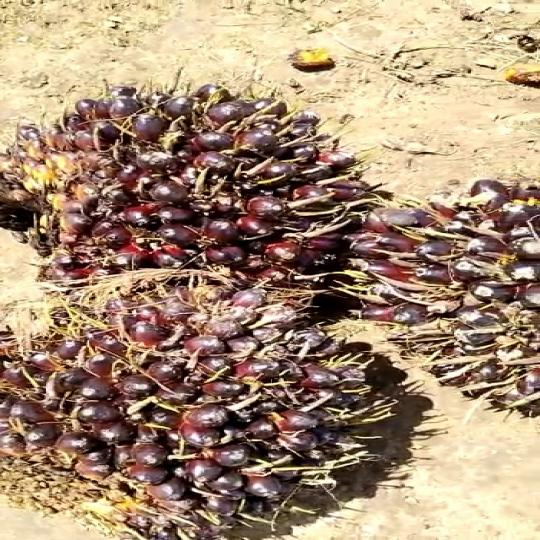mentah: (0, 273, 423, 539), (0, 68, 363, 311), (392, 162, 540, 447)
